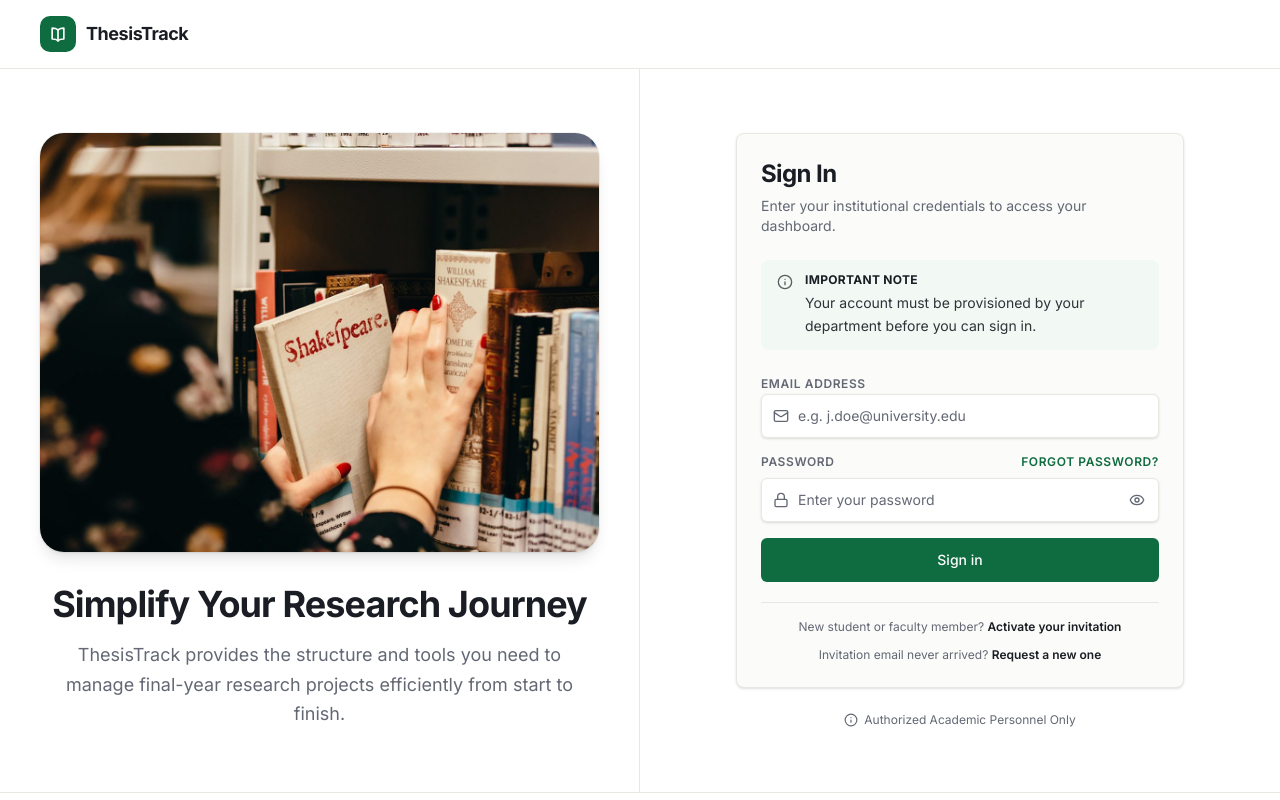
invitation resend entry (orphan prevention) › Login offers "Request a new one" and it routes to the resend form
This screenshot has width=1280, height=800.
Click the link "Request a new one" at x=1046, y=654, box left=992, top=647, right=1101, bottom=662
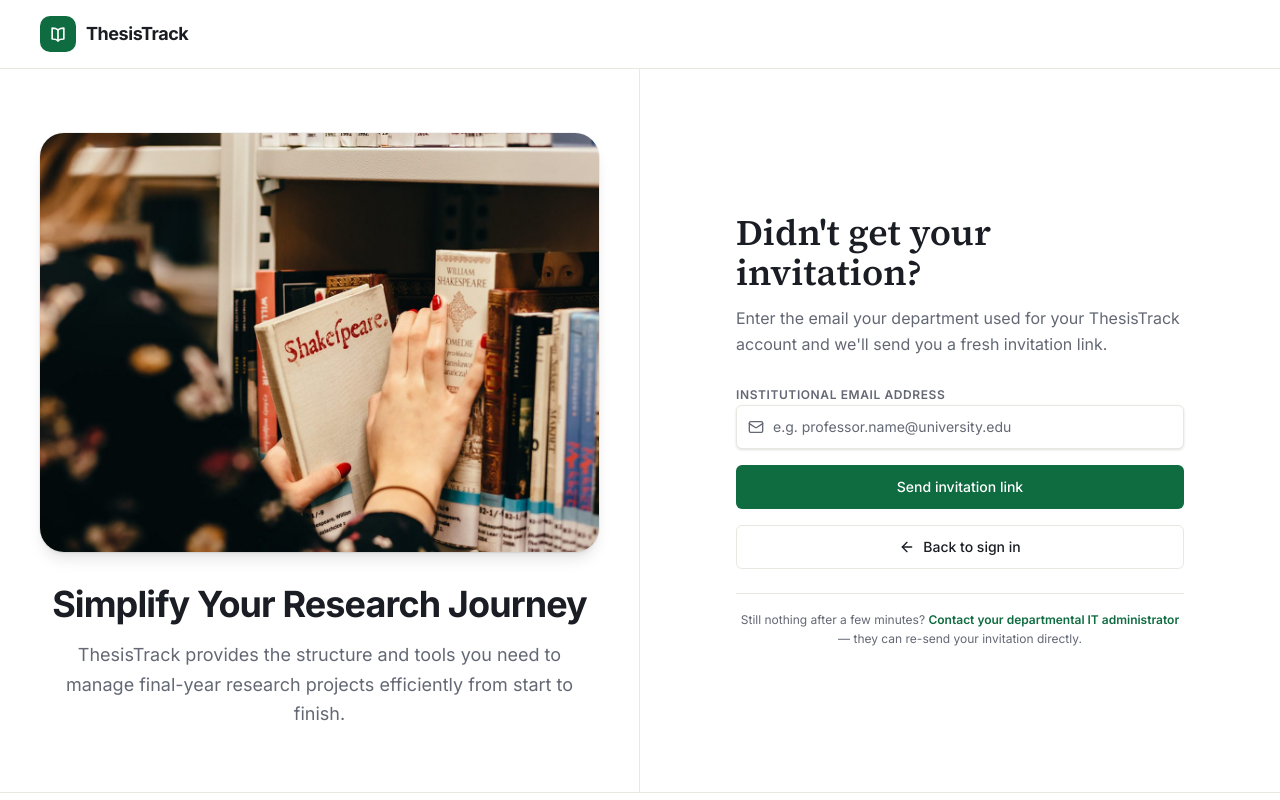
Expected: the heading "Didn't get your invitation?" is shown, left=736, top=208, right=991, bottom=296
